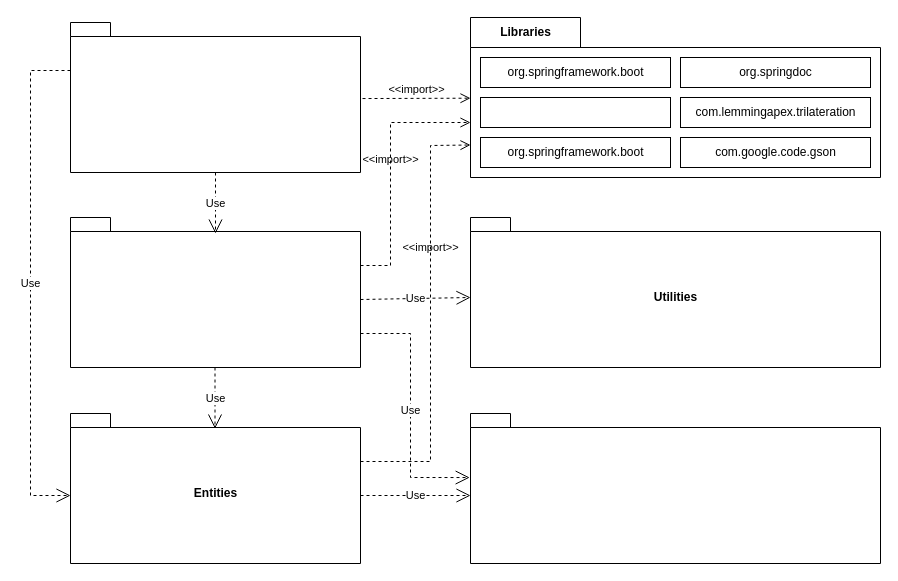
Some shapes in this 898 by 581 pixel diagram are drawn without their labels. The shapes that lost their labels are listed below. From the top down, each one's centre as x and y in pixels, then its label:
At point (215, 97): "Controller".
At point (575, 112): "org.projectlombok".
At point (215, 292): "Services".
At point (675, 488): "Exception".
